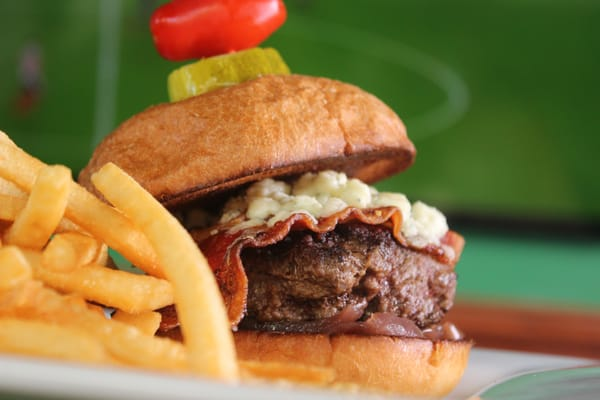soup: (57, 60, 471, 391)
